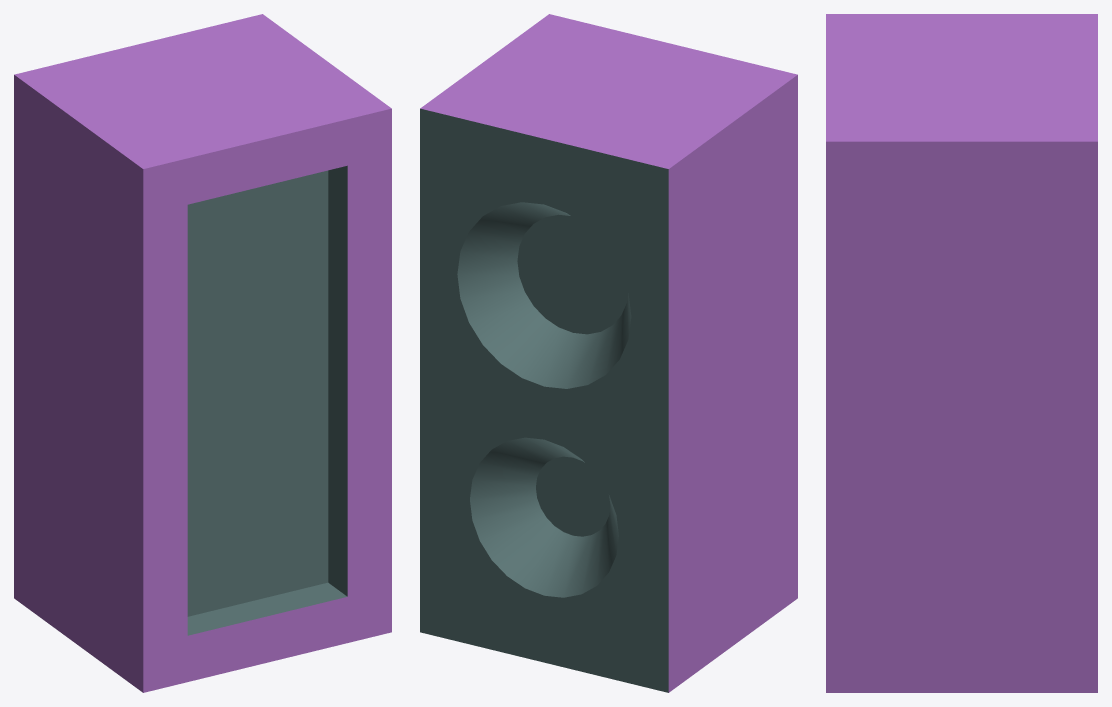
Rendered from speakerSmall.glb.
3 renders of one model, left to right at view 1: azimuth 30°, elevation 25°; view 2: azimuth 150°, elevation 25°; view 3: azimuth 270°, elevation 25°, orthographic. The views are drawn at different scales.
Parts seen in each view (by area): view 1: speakerSmall; view 2: speakerSmall; view 3: speakerSmall.
Boxes of the visible parts, x1,y1,x2,y2 form: speakerSmall: [14, 14, 391, 692]; speakerSmall: [420, 14, 797, 692]; speakerSmall: [826, 14, 1097, 692].
Size of the model in its own units: 0.3397 by 0.6839 by 0.3057.
